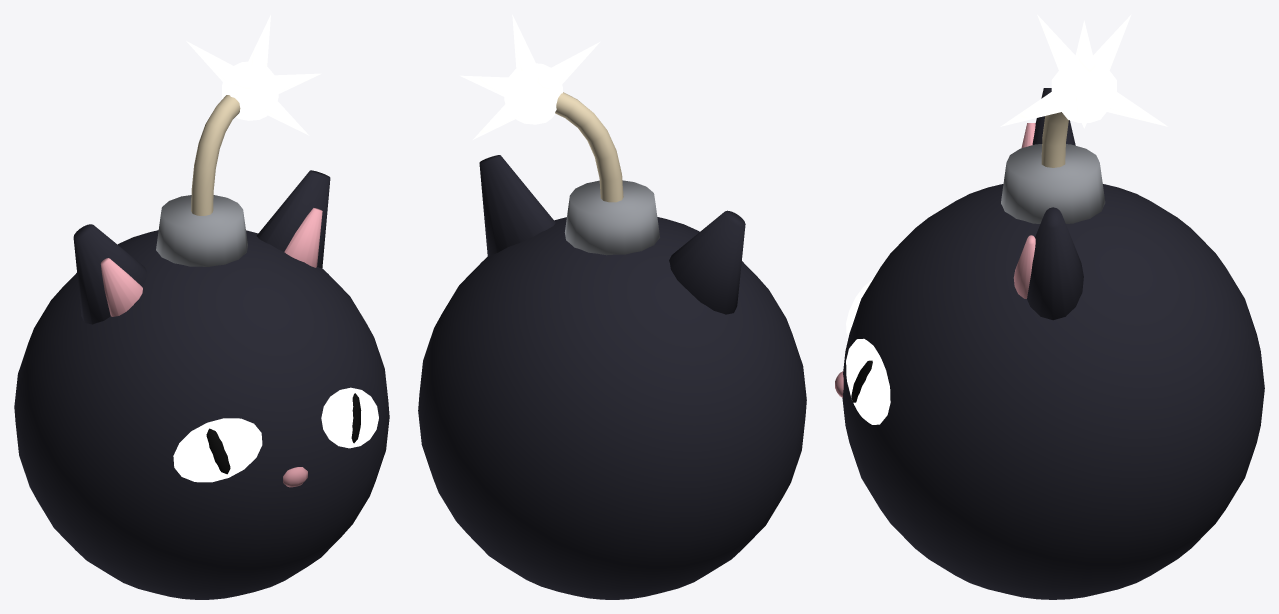
The model's file is Bomba.glb.
3 views of the same model, side by side, from view 1: azimuth 30°, elevation 25°; view 2: azimuth 150°, elevation 25°; view 3: azimuth 270°, elevation 25° (orthographic). The views are drawn at different scales.
Parts seen in each view (by area): view 1: Bomba; view 2: Bomba; view 3: Bomba.
Boxes of the visible parts, box(x1,y1,x2,y2) form: Bomba: box(14, 15, 389, 599); Bomba: box(418, 14, 806, 599); Bomba: box(835, 14, 1264, 599).
Size of the model in its own units: 0.68 by 1.07 by 0.6901.
